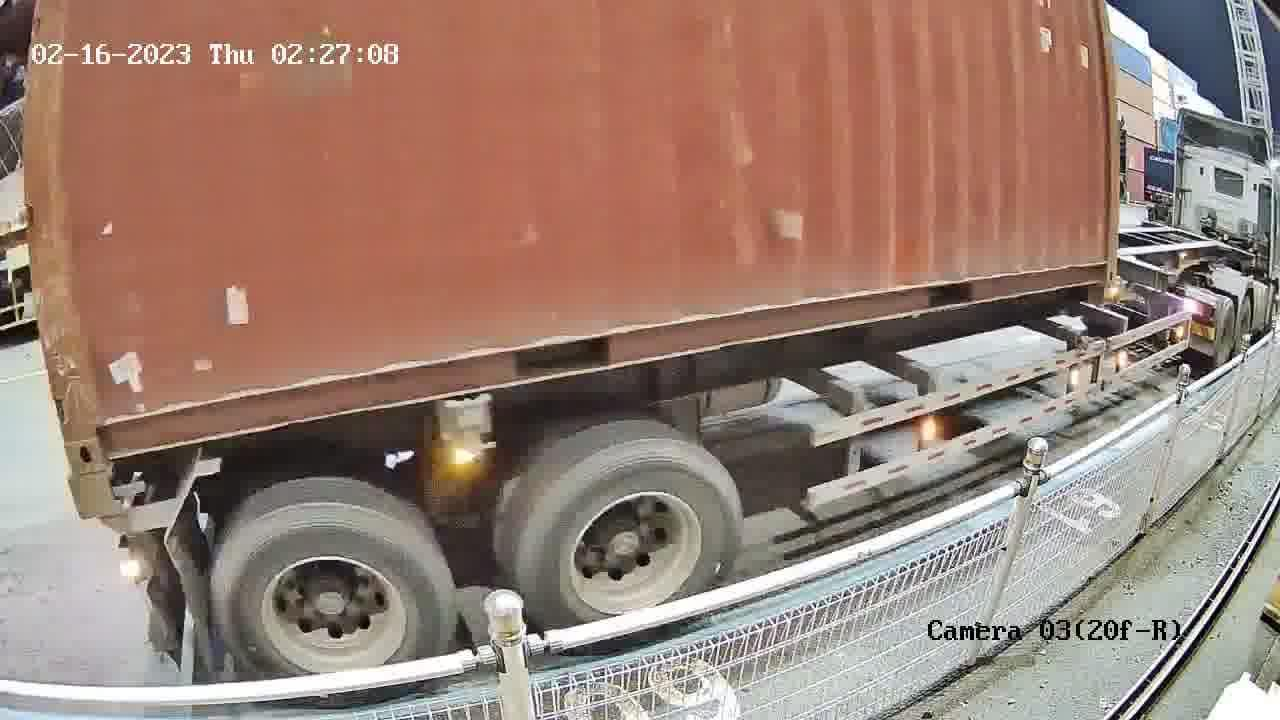Cone: (75, 470, 124, 518)
Hole_L: (53, 389, 143, 473)
Hole_R: (1075, 246, 1118, 285)
Tire: (223, 508, 456, 677), (524, 447, 736, 622)
